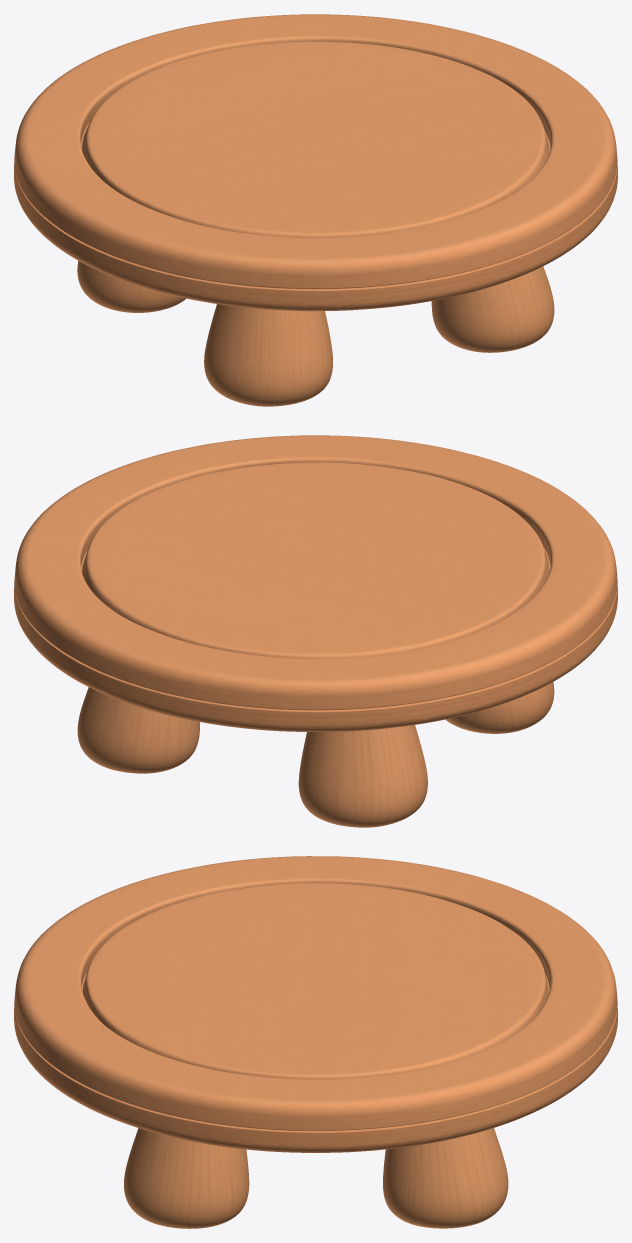
File: wooden-table.glb
The picture shows the model from 3 angles, top to bottom: view 1: azimuth 30°, elevation 25°; view 2: azimuth 150°, elevation 25°; view 3: azimuth 270°, elevation 25°; orthographic projection.
Bounding box in the file's own units: 1.9 × 0.6135 × 1.9.
1 material, 1 textured.
